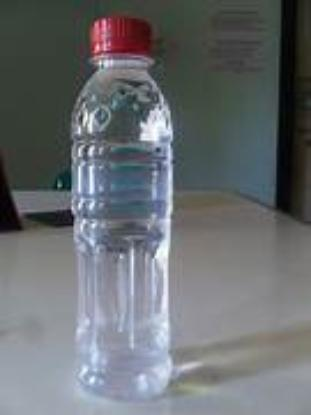Plastic Bottle: (67, 19, 175, 411)
